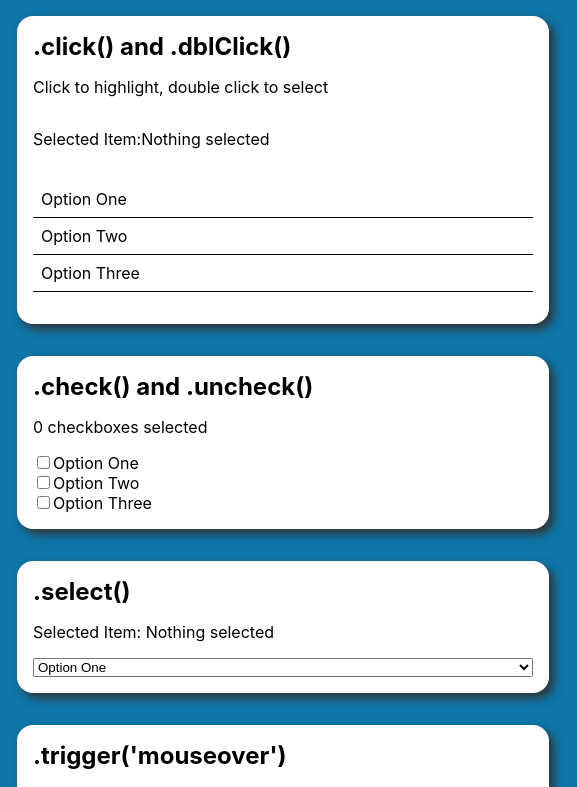
Basic Page Interactions › sets the header text to the item's name when double-clicked
Step 1. Double-click the list item "Option Two" → [283, 237], box [33, 218, 533, 255]
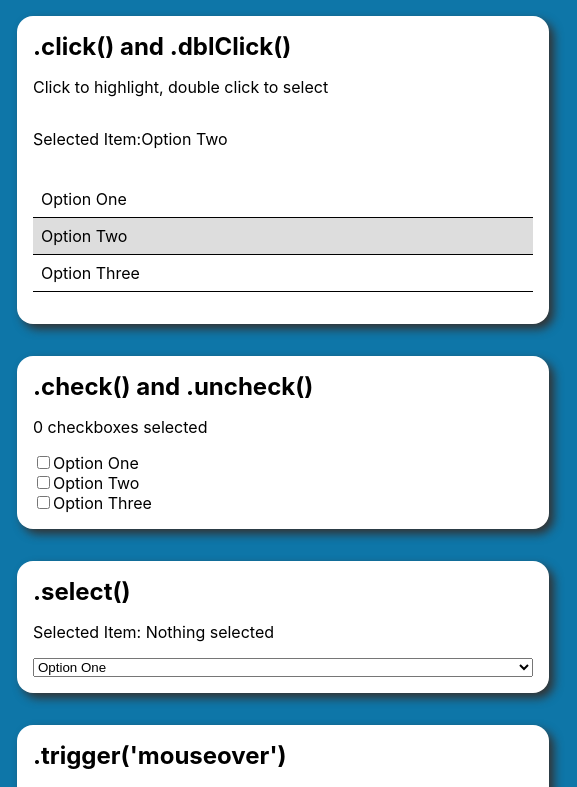
Expected: the text with test id "box-1-selected-name" reads "Option Two", [141, 129, 227, 149]
